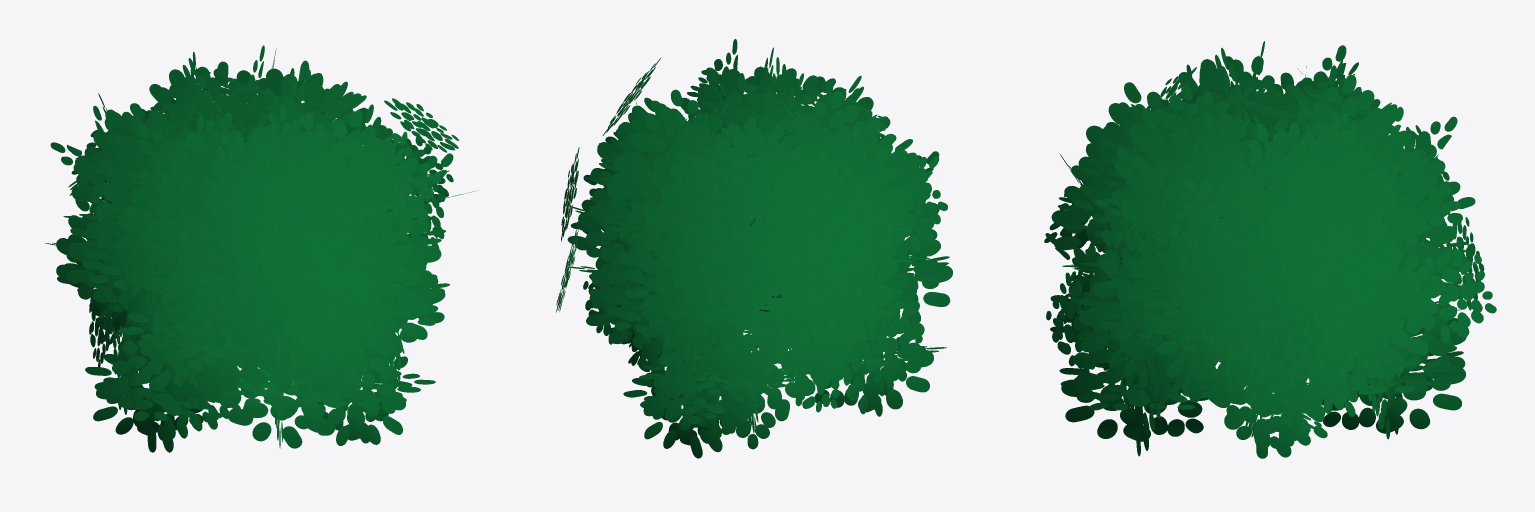
File: bush.glb
The picture shows the model from 3 angles, left to right: view 1: azimuth 30°, elevation 25°; view 2: azimuth 150°, elevation 25°; view 3: azimuth 270°, elevation 25°; orthographic projection. The views are drawn at different scales.
Visible parts, largest first — view 1: Bush_Common; view 2: Bush_Common; view 3: Bush_Common.
Boxes of the visible parts, x1=… form: Bush_Common: x1=45, y1=45, x2=476, y2=452; Bush_Common: x1=556, y1=39, x2=952, y2=458; Bush_Common: x1=1044, y1=41, x2=1496, y2=458.
Size of the model in its own units: 1.69 by 1.57 by 1.7.
1 material, 1 textured.
